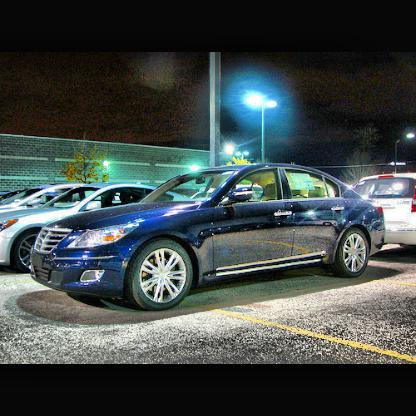Hyundai Genesis Sedan 2012: (33, 165, 386, 312)
